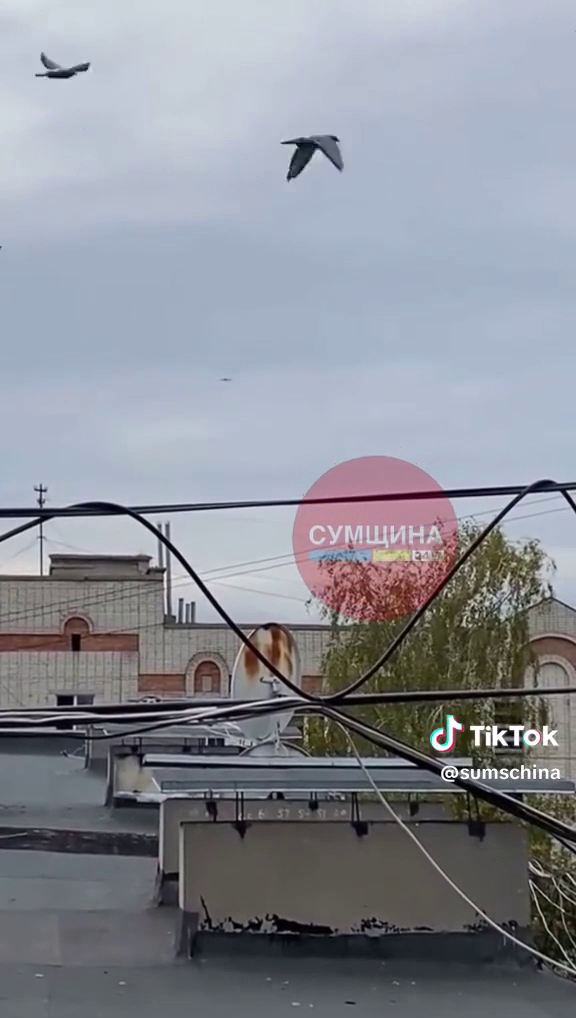shahed: (216, 376, 238, 384)
